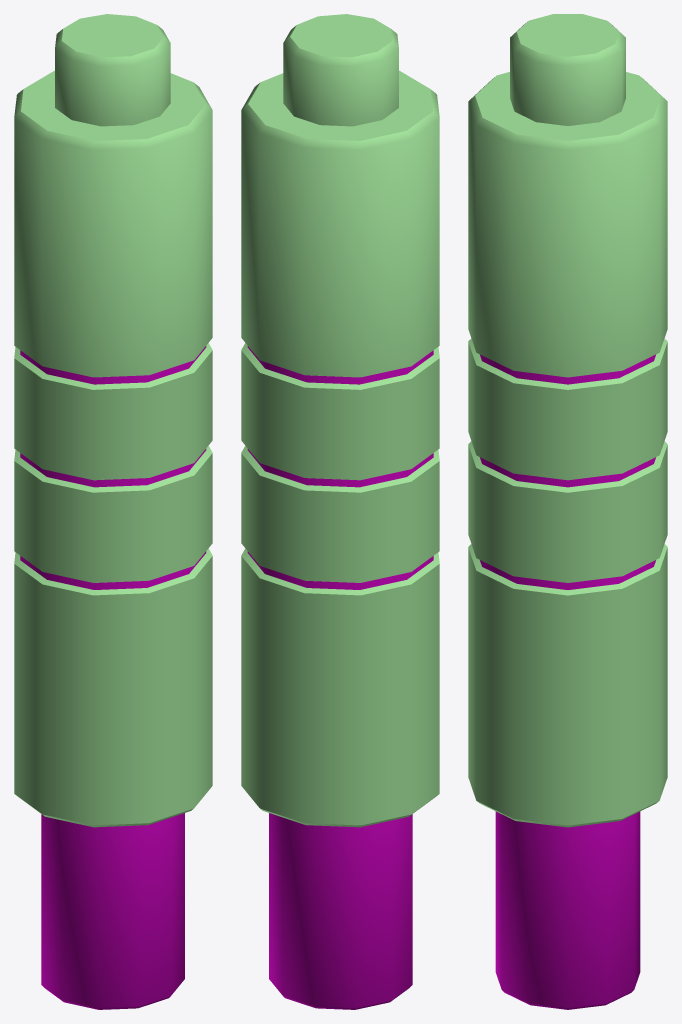
File: light.FBX
The picture shows the model from 3 angles, left to right: view 1: azimuth 30°, elevation 25°; view 2: azimuth 150°, elevation 25°; view 3: azimuth 270°, elevation 25°; orthographic projection.
Visible parts, largest first — view 1: Cylinder001; view 2: Cylinder001; view 3: Cylinder001.
Part boxes in pixels (x1=…): Cylinder001: x1=14, y1=14, x2=212, y2=1009; Cylinder001: x1=241, y1=14, x2=439, y2=1009; Cylinder001: x1=468, y1=14, x2=667, y2=1009.
Bounding box in the file's own units: 0.2894 × 1.53 × 0.2924.
